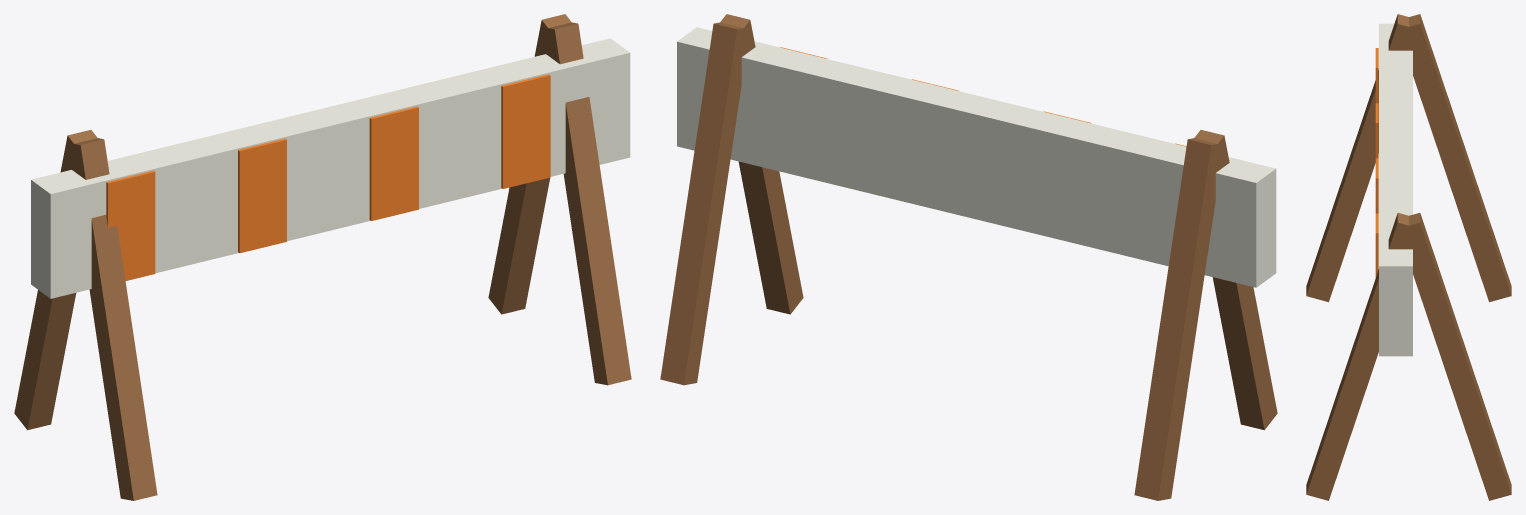
The model's file is TR3_Barricade_Striped.glb.
3 views of the same model, side by side, from view 1: azimuth 30°, elevation 25°; view 2: azimuth 150°, elevation 25°; view 3: azimuth 270°, elevation 25° (orthographic). The views are drawn at different scales.
Visible parts, largest first — view 1: TR3_Barricade_Striped; view 2: TR3_Barricade_Striped; view 3: TR3_Barricade_Striped.
Part boxes in pixels (left/top/right/bottom): TR3_Barricade_Striped: left=14, top=14, right=631, bottom=500; TR3_Barricade_Striped: left=660, top=14, right=1277, bottom=500; TR3_Barricade_Striped: left=1306, top=14, right=1511, bottom=500.
Size of the model in its own units: 2.2 by 1.18 by 0.7861.
